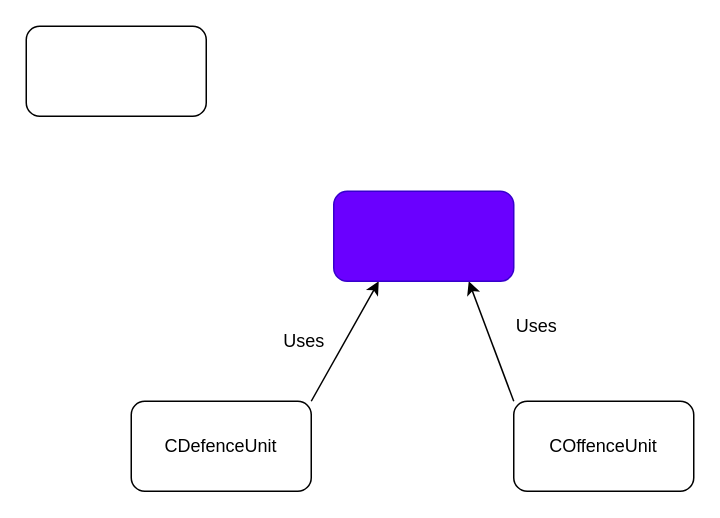
Image size: 720x518. Some labels were removed from this diagram. Each missing label, with the centre of its shape:
Game: the point at 115,70
Map: the point at 423,235
